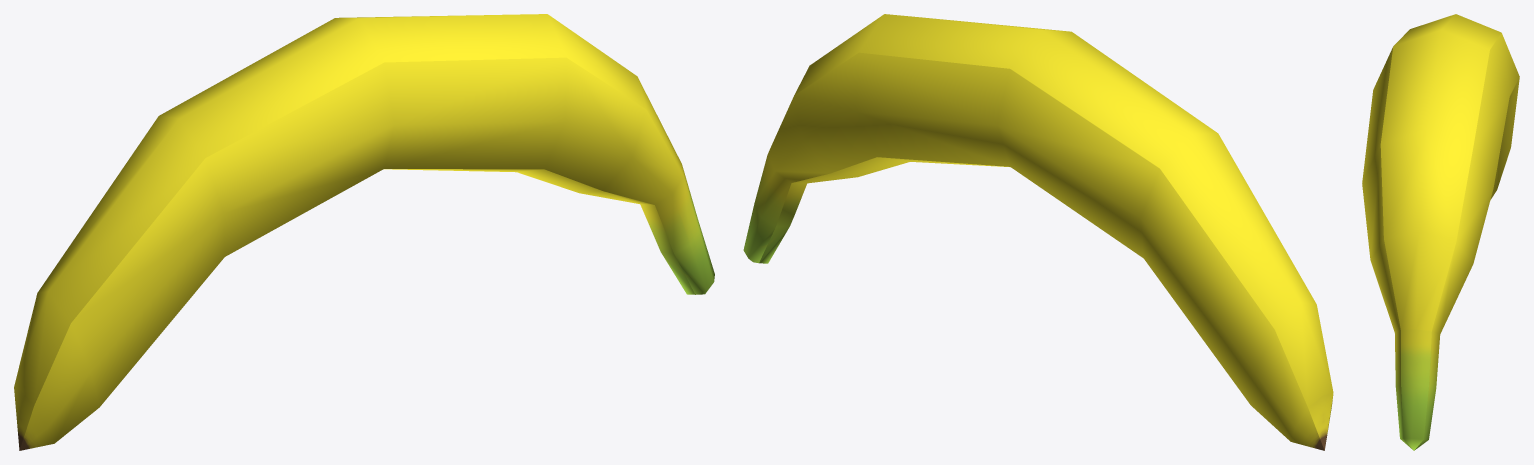
File: banana.fbx
3 renders of one model, left to right at view 1: azimuth 30°, elevation 25°; view 2: azimuth 150°, elevation 25°; view 3: azimuth 270°, elevation 25°, orthographic. The views are drawn at different scales.
Parts seen in each view (by area): view 1: banana.001; view 2: banana.001; view 3: banana.001.
Boxes of the visible parts, left/top/right/bottom form: banana.001: left=14, top=14, right=714, bottom=450; banana.001: left=743, top=14, right=1333, bottom=450; banana.001: left=1362, top=14, right=1519, bottom=450.
Size of the model in its own units: 1002 by 529 by 248.
